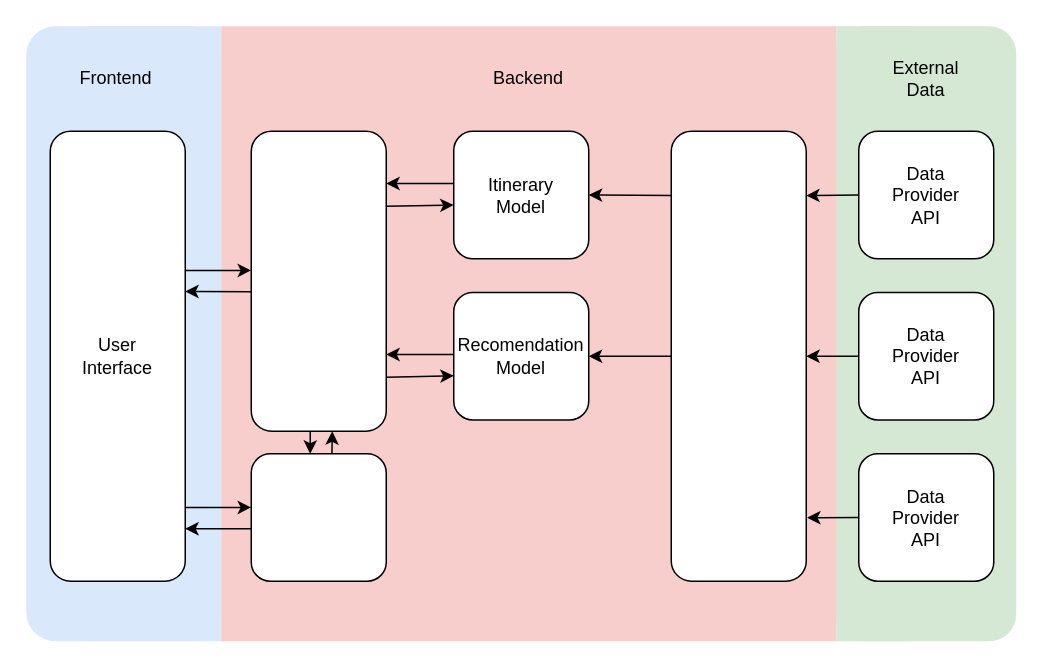
The diagram is 1041 pixels wide and 666 high, and some of its shapes have lost their labels. Each missing label, with the box of its shape:
Data Colection: (670, 130, 806, 581)
Trip Management Service: (250, 130, 386, 431)
User Service: (250, 452, 386, 581)
